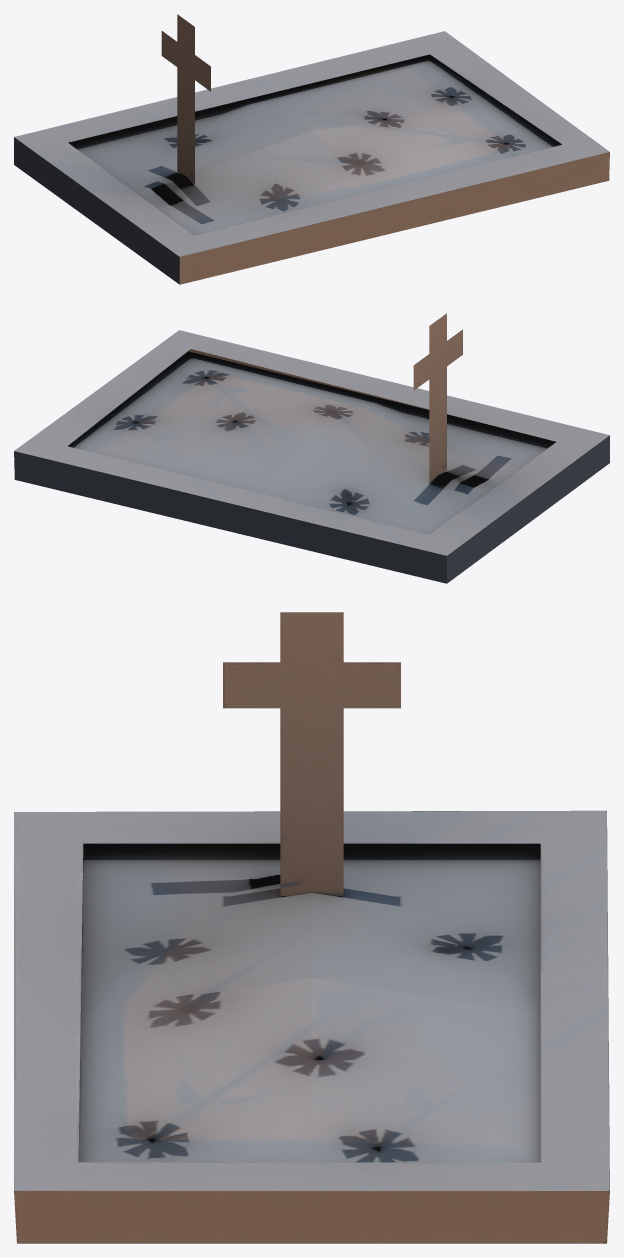
3 renders of one model, top to bottom at view 1: azimuth 30°, elevation 25°; view 2: azimuth 150°, elevation 25°; view 3: azimuth 270°, elevation 25°, orthographic. The views are drawn at different scales.
Parts seen in each view (by area): view 1: Tombe2 LOD Mid; view 2: Tombe2 LOD Mid; view 3: Tombe2 LOD Mid.
Boxes of the visible parts, x1,y1,x2,y2 form: Tombe2 LOD Mid: (14,14,609,284); Tombe2 LOD Mid: (14,313,609,583); Tombe2 LOD Mid: (14,612,609,1243).
Bounding box in the file's own units: 2.14 × 0.8689 × 1.42.
1 material, 1 textured.
